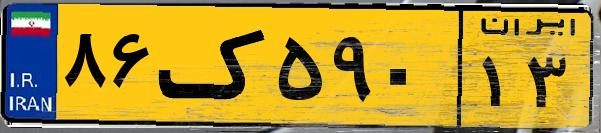0: (385, 28, 445, 110)
1: (475, 38, 525, 113)
3: (525, 38, 570, 115)
5: (270, 28, 330, 110)
6: (110, 28, 158, 98)
8: (57, 26, 110, 100)
9: (330, 28, 385, 110)
ک: (158, 12, 270, 120)
